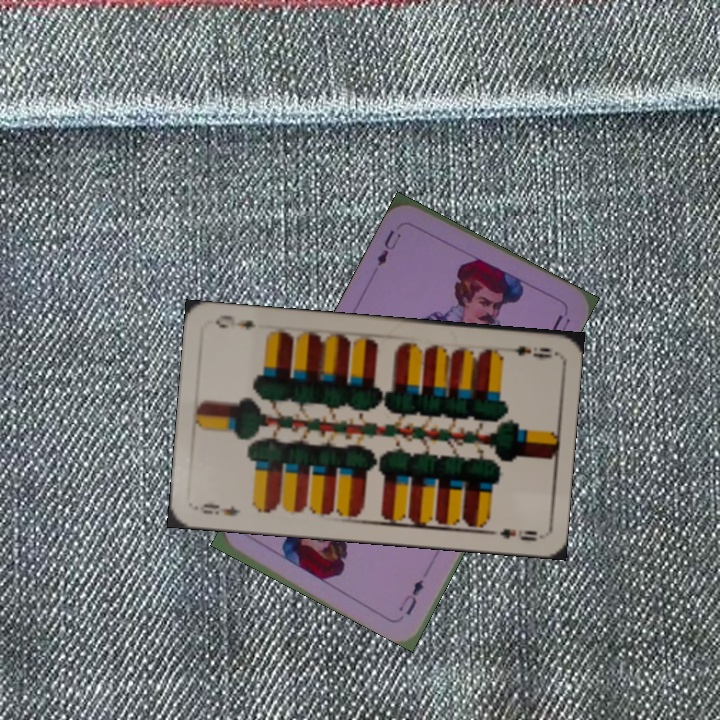E9: (497, 341, 554, 361), (193, 499, 242, 519)
EU: (372, 226, 404, 269), (395, 575, 427, 618)
